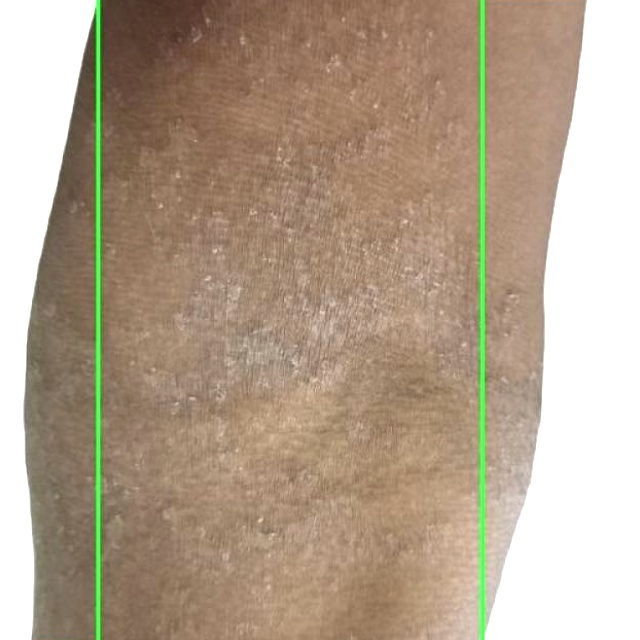Eczema: (482, 0, 639, 639), (0, 0, 98, 639)
